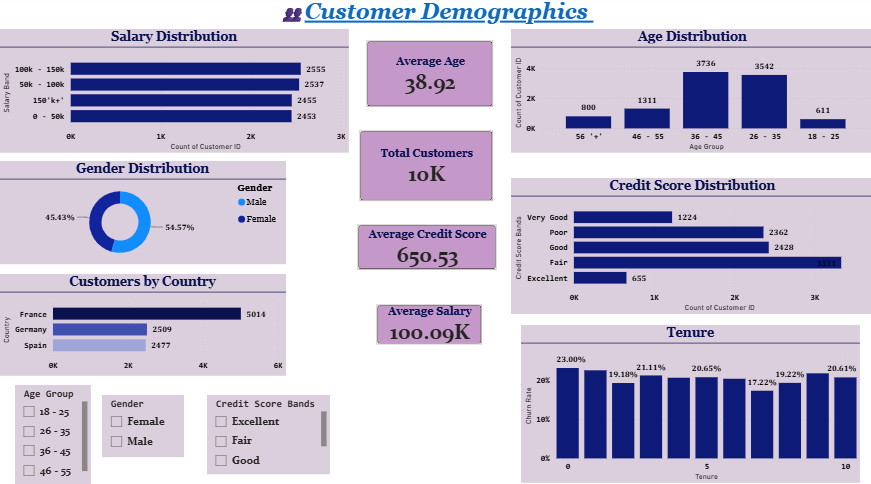

The page's visual inventory and layout, read from the dashboard file:
{"tool":"powerbi","page":{"name":"Customer Demographics","canvas":[1280,720],"ordinal":3},"visuals":[{"type":"textbox","box":[0,0,1280.5,48.3],"z":0},{"type":"cardVisual","fields":{"Data":["Bank Customer Churn Prediction.Total Customers"]},"box":[510.7,180,229.8,137.6],"z":1000},{"type":"cardVisual","fields":{"Data":["Bank Customer Churn Prediction.Average Age"]},"box":[521,48.3,219.5,131.7],"z":2000},{"type":"cardVisual","fields":{"Data":["Bank Customer Churn Prediction.Average Credit Score"]},"box":[507.8,317.6,237.1,101],"z":3000},{"type":"cardVisual","fields":{"Data":["Bank Customer Churn Prediction.Average Salary"]},"box":[535.6,434.6,188.8,92.2],"z":4000},{"type":"clusteredBarChart","title":"Customers by Country","fields":{"Category":["Bank Customer Churn Prediction.Country"],"Y":["CountNonNull(Bank Customer Churn Prediction.Customer ID)"]},"box":[0,406.8,420,149.3],"z":5000},{"type":"donutChart","title":"Gender Distribution","fields":{"Category":["Bank Customer Churn Prediction.Gender"],"Y":["CountNonNull(Bank Customer Churn Prediction.Customer ID)"]},"box":[0,241.5,420,150.7],"z":6000},{"type":"clusteredColumnChart","title":"Age Distribution","fields":{"Category":["Bank Customer Churn Prediction.Age Group"],"Y":["CountNonNull(Bank Customer Churn Prediction.Customer ID)"]},"box":[749.3,48.3,531.2,181.5],"z":7000},{"type":"clusteredBarChart","title":"Credit Score Distribution","fields":{"Y":["CountNonNull(Bank Customer Churn Prediction.Customer ID)"],"Category":["Bank Customer Churn Prediction.Credit Score Bands"]},"box":[749.3,266.3,531.2,199],"z":8000},{"type":"clusteredBarChart","title":"Salary Distribution","fields":{"Category":["Bank Customer Churn Prediction.Salary Band"],"Y":["CountNonNull(Bank Customer Churn Prediction.Customer ID)"]},"box":[0,48.3,512.2,181.5],"z":9000},{"type":"clusteredColumnChart","title":"Tenure","fields":{"Y":["Bank Customer Churn Prediction.Churn Rate"],"Category":["Bank Customer Churn Prediction.Tenure"]},"box":[763.9,481.5,496.1,231.2],"z":10000},{"type":"slicer","fields":{"Values":["Bank Customer Churn Prediction.Gender"]},"box":[150.7,583.9,120,90.7],"z":12000},{"type":"slicer","fields":{"Values":["Bank Customer Churn Prediction.Age Group"]},"box":[23.4,569.3,111.2,150.7],"z":13000},{"type":"slicer","fields":{"Values":["Bank Customer Churn Prediction.Credit Score Bands"]},"box":[304.4,583.9,180,115.6],"z":14000}]}

Visuals, with their boxes in screenshot pixels (x1, y1, x2, y2), scaled from the page's 1280x720 canvas onto the 871x484 screenshot:
textbox: bbox(0, 0, 870, 32)
cardVisual - Bank Customer Churn Prediction.Total Customers: bbox(348, 121, 504, 213)
cardVisual - Bank Customer Churn Prediction.Average Age: bbox(355, 32, 504, 121)
cardVisual - Bank Customer Churn Prediction.Average Credit Score: bbox(346, 213, 507, 281)
cardVisual - Bank Customer Churn Prediction.Average Salary: bbox(364, 292, 493, 354)
"Customers by Country" clusteredBarChart: bbox(0, 273, 286, 374)
"Gender Distribution" donutChart: bbox(0, 162, 286, 264)
"Age Distribution" clusteredColumnChart: bbox(510, 32, 870, 154)
"Credit Score Distribution" clusteredBarChart: bbox(510, 179, 870, 313)
"Salary Distribution" clusteredBarChart: bbox(0, 32, 349, 154)
"Tenure" clusteredColumnChart: bbox(520, 324, 857, 479)
slicer - Bank Customer Churn Prediction.Gender: bbox(103, 393, 184, 453)
slicer - Bank Customer Churn Prediction.Age Group: bbox(16, 383, 92, 483)
slicer - Bank Customer Churn Prediction.Credit Score Bands: bbox(207, 393, 330, 470)
